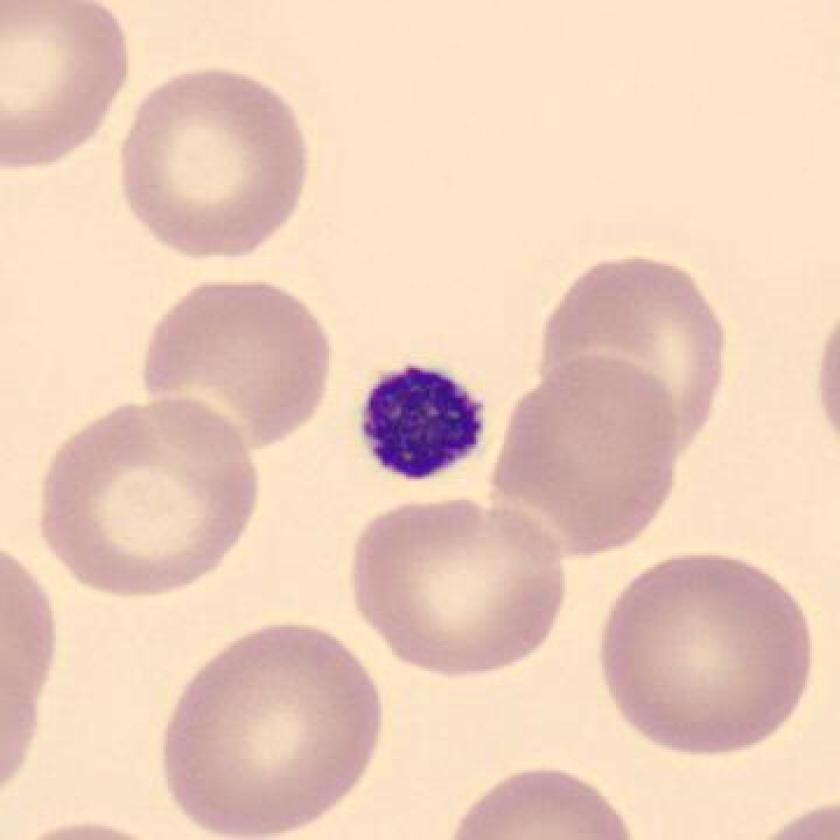platelets: (349, 355, 503, 492)
